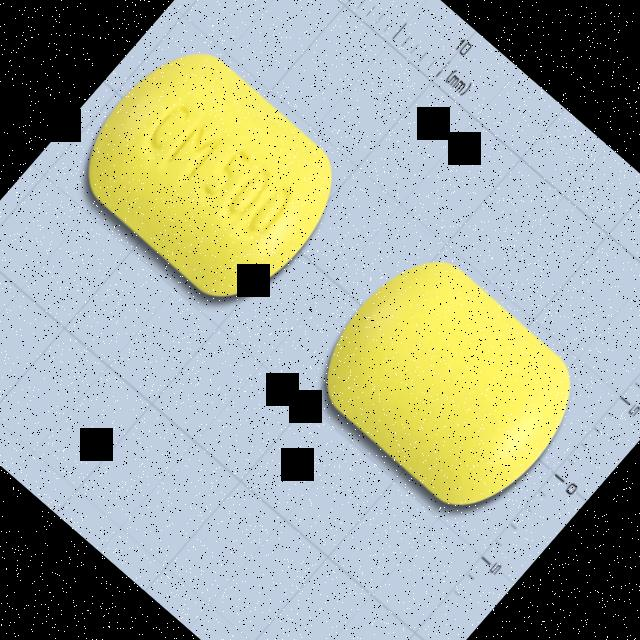Claricin: (54, 22, 366, 330)
